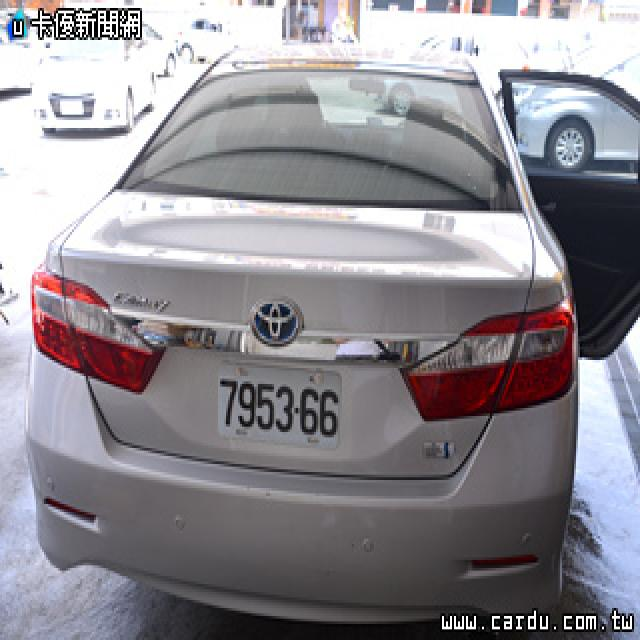license-plate: (217, 360, 341, 451)
